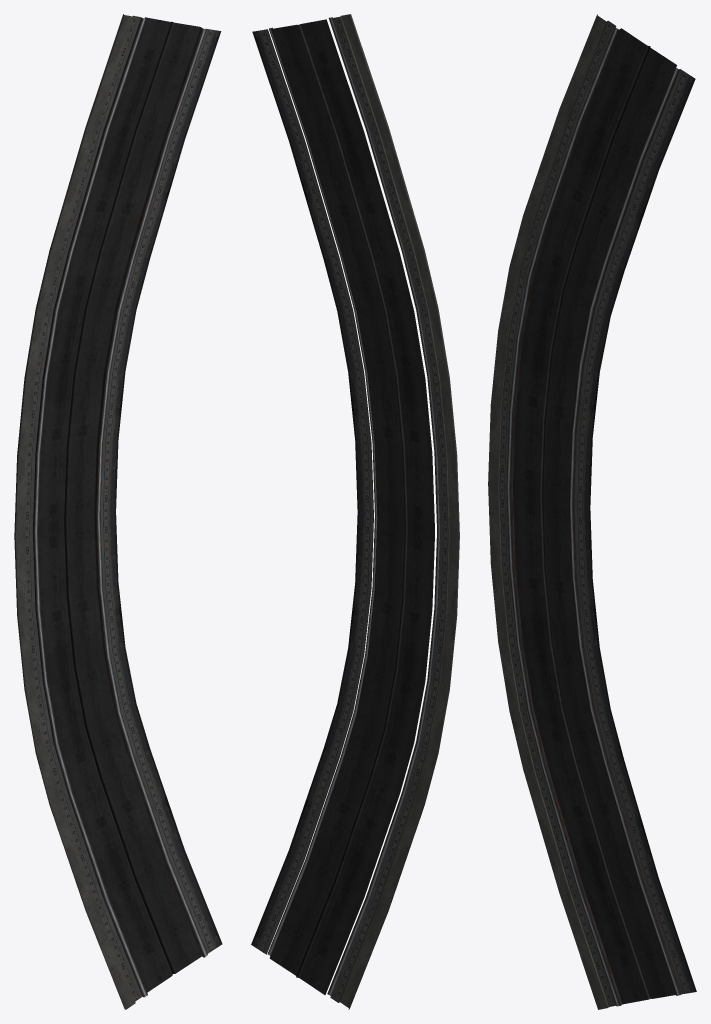
The model's file is p6_express_train_track_a03_LOD0.obj.
3 views of the same model, side by side, from view 1: azimuth 30°, elevation 25°; view 2: azimuth 150°, elevation 25°; view 3: azimuth 330°, elevation 25° (orthographic).
Visible parts, largest first — view 1: metal_aircraft_catapult_strip, dub_concrete_wall_01_trim_clean, railroadtrack_top, railroadtrack_side; view 2: metal_aircraft_catapult_strip, dub_concrete_wall_01_trim_clean, railroadtrack_top; view 3: metal_aircraft_catapult_strip, dub_concrete_wall_01_trim_clean, railroadtrack_top, railroadtrack_side.
Part boxes in pixels (x1,y1,x2,y2): metal_aircraft_catapult_strip: [26, 16, 222, 1001]; dub_concrete_wall_01_trim_clean: [14, 14, 135, 1009]; railroadtrack_top: [34, 18, 207, 997]; railroadtrack_side: [32, 17, 203, 996]; metal_aircraft_catapult_strip: [251, 17, 448, 1002]; dub_concrete_wall_01_trim_clean: [338, 14, 459, 1009]; railroadtrack_top: [267, 17, 439, 995]; metal_aircraft_catapult_strip: [499, 20, 696, 1006]; dub_concrete_wall_01_trim_clean: [488, 14, 609, 1009]; railroadtrack_top: [506, 27, 680, 1006]; railroadtrack_side: [511, 26, 681, 1005].
Size of the model in its own units: 866 by 3964 by 23.02.
